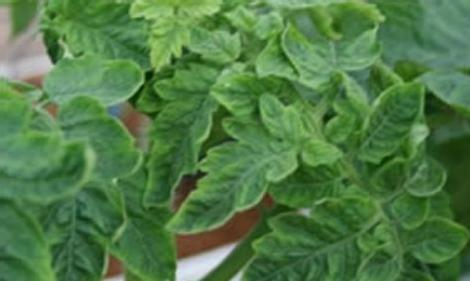Tomato leaf mosaic virus: (165, 120, 317, 240), (225, 197, 374, 281), (141, 59, 218, 204), (34, 0, 164, 71), (352, 75, 425, 166), (41, 191, 109, 281), (42, 54, 144, 113), (200, 65, 290, 115), (274, 21, 339, 90), (399, 215, 462, 268)
